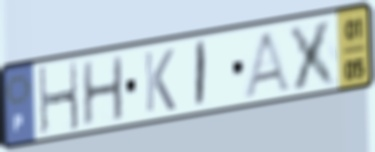A: (240, 27, 295, 99)
H: (36, 59, 82, 138), (80, 53, 127, 129)
I: (193, 38, 209, 111)
K: (142, 46, 178, 116)
X: (286, 16, 343, 93)
